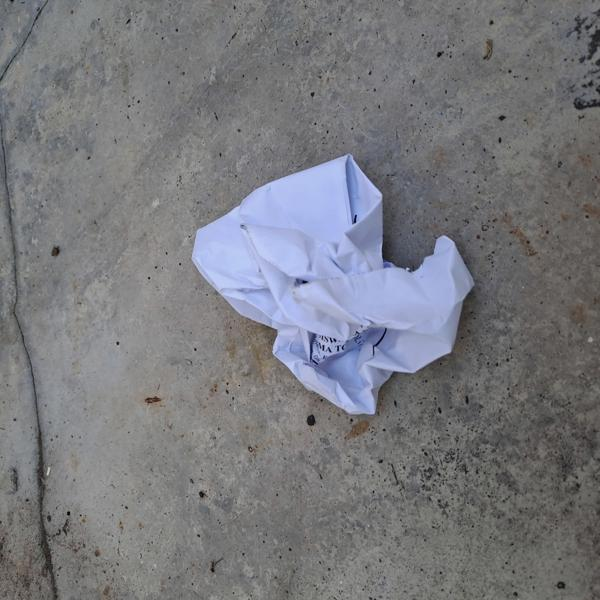Organik: (184, 139, 471, 427)
